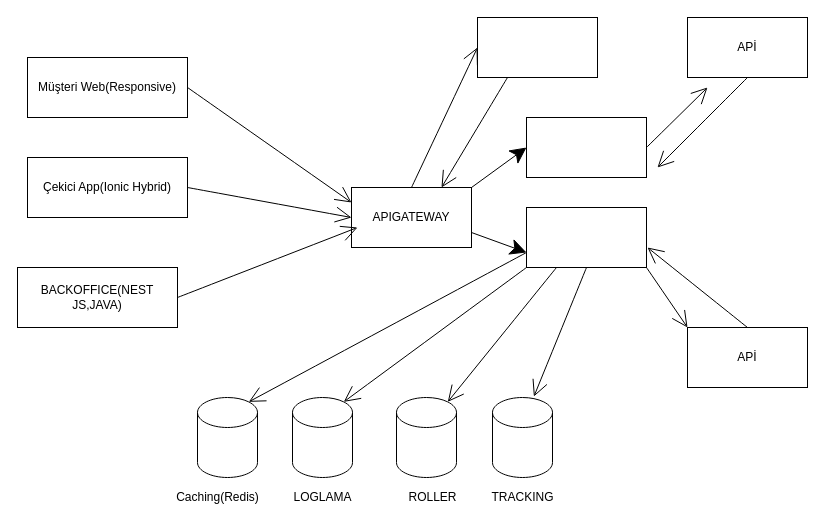
Some shapes in this 825 by 525 pixel diagram are drawn without their labels. The shapes that lost their labels are listed below. From the top down, each one's box as (x1, y1, x2, y2) in pixels, then its label:
(476, 16, 598, 78): BACKEND SYSTEM
(526, 116, 646, 178): SIGORTA API
(526, 206, 646, 268): CRM API
